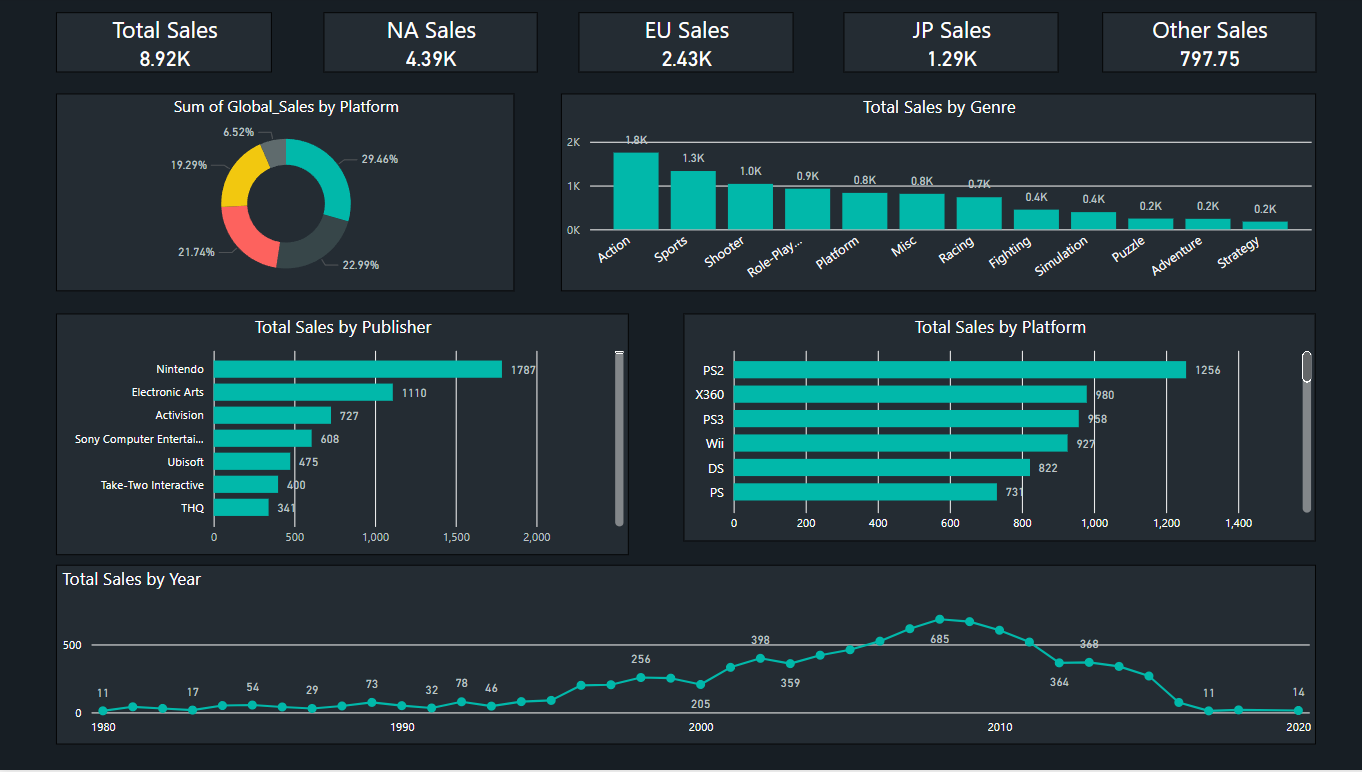

The page's visual inventory and layout, read from the dashboard file:
{"tool":"powerbi","page":{"name":"Page 1","canvas":[1280,720],"ordinal":0},"visuals":[{"type":"lineChart","title":"Total Sales by Year","fields":{"Y":["Sum(vgsales.Global_Sales)"],"Category":["vgsales.Year"]},"box":[55.8,529.1,1172.1,167.4],"z":0},{"type":"card","title":"Total Sales","fields":{"Values":["Sum(vgsales.Global_Sales)"]},"box":[55.8,15.1,201.2,55.8],"z":1000},{"type":"card","title":"EU Sales","fields":{"Values":["Sum(vgsales.EU_Sales)"]},"box":[541.9,15.1,200,55.8],"z":2000},{"type":"card","title":"JP Sales","fields":{"Values":["Sum(vgsales.JP_Sales)"]},"box":[788.4,15.1,200,55.8],"z":3000},{"type":"card","title":"NA Sales","fields":{"Values":["Sum(vgsales.NA_Sales)"]},"box":[304.7,15.1,198.8,55.8],"z":4000},{"type":"card","title":"Other Sales","fields":{"Values":["Sum(vgsales.Other_Sales)"]},"box":[1029.1,15.1,198.8,55.8],"z":5000},{"type":"columnChart","title":"Total Sales by Genre","fields":{"Category":["vgsales.Genre"],"Y":["Sum(vgsales.Global_Sales)"]},"box":[525.6,90.7,702.3,183.7],"z":6000},{"type":"barChart","title":"Total Sales by Publisher","fields":{"Category":["vgsales.Publisher"],"Y":["Sum(vgsales.Global_Sales)"]},"box":[55.8,295.3,532.6,224.4],"z":7000},{"type":"barChart","title":"Total Sales by Platform","fields":{"Y":["Sum(vgsales.Global_Sales)"],"Category":["vgsales.Platform"]},"box":[639.5,295.3,588.4,211.6],"z":8000},{"type":"donutChart","fields":{"Y":["Sum(vgsales.Global_Sales)"],"Category":["vgsales.Platform"]},"box":[55.8,90.7,426.7,183.7],"z":9000}]}

Visuals, with their boxes in screenshot pixels (x1, y1, x2, y2), scaled from the page's 1280x720 canvas onto the 1362x772 screenshot:
"Total Sales by Year" lineChart: Rect(59, 567, 1307, 747)
"Total Sales" card: Rect(59, 16, 273, 76)
"EU Sales" card: Rect(577, 16, 789, 76)
"JP Sales" card: Rect(839, 16, 1052, 76)
"NA Sales" card: Rect(324, 16, 536, 76)
"Other Sales" card: Rect(1095, 16, 1307, 76)
"Total Sales by Genre" columnChart: Rect(559, 97, 1307, 294)
"Total Sales by Publisher" barChart: Rect(59, 317, 626, 557)
"Total Sales by Platform" barChart: Rect(680, 317, 1307, 544)
donutChart - Sum(vgsales.Global_Sales) x vgsales.Platform: Rect(59, 97, 513, 294)
